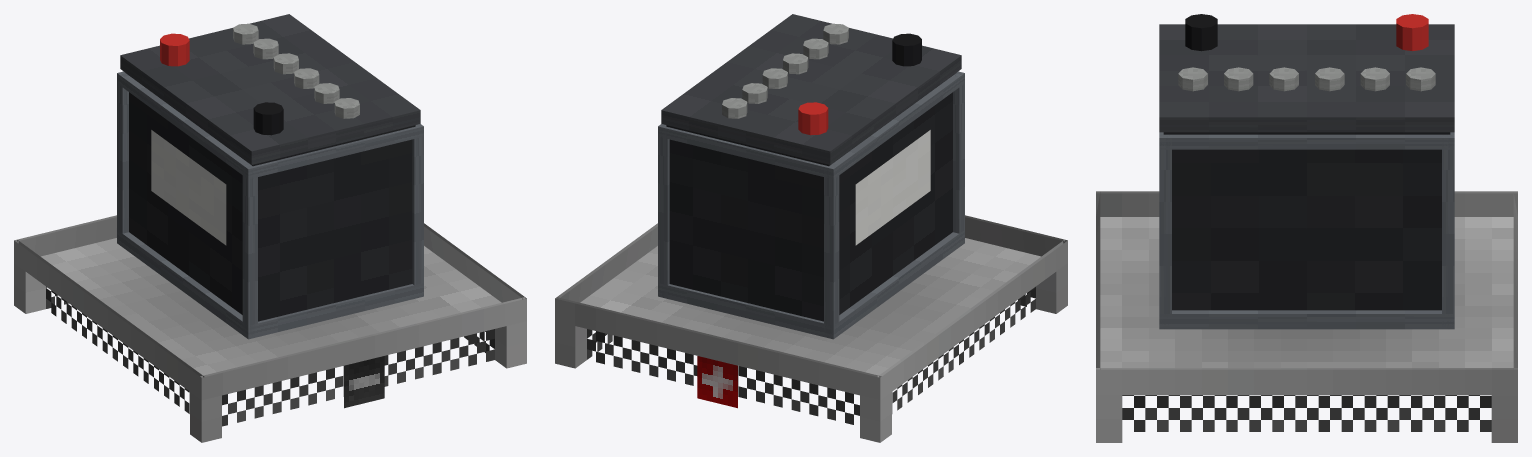
File: batterychem.obj
3 views of the same model, side by side, from view 1: azimuth 30°, elevation 25°; view 2: azimuth 150°, elevation 25°; view 3: azimuth 270°, elevation 25° (orthographic). The views are drawn at different scales.
Parts seen in each view (by area): view 1: battery_leadacid, main, battery_nicd, plugMinus; view 2: battery_leadacid, main, battery_nicd, plugPlus; view 3: battery_leadacid, main, battery_nicd.
Boxes of the visible parts, box(x1,y1,x2,y2) form: battery_leadacid: box(120, 14, 420, 321); main: box(14, 215, 526, 442); battery_nicd: box(117, 71, 423, 339); plugMinus: box(344, 356, 384, 408); battery_leadacid: box(661, 14, 961, 321); main: box(555, 215, 1067, 442); battery_nicd: box(658, 71, 964, 339); plugPlus: box(697, 356, 737, 408); battery_leadacid: box(1159, 14, 1454, 310); main: box(1096, 191, 1517, 442); battery_nicd: box(1159, 132, 1454, 329).
Size of the model in its own units: 1 by 0.8 by 1.
Materials: 2 (2 with a texture image).
